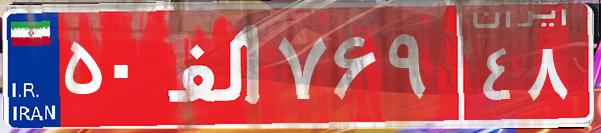0: (110, 28, 158, 105)
4: (475, 38, 525, 113)
5: (57, 26, 110, 107)
6: (330, 28, 385, 110)
7: (273, 28, 330, 110)
8: (525, 38, 570, 115)
9: (385, 28, 445, 110)
الف: (158, 15, 273, 115)
